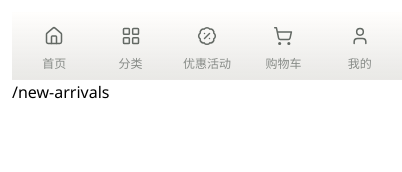
BottomNav › navigates on touch down so scroll momentum cannot swallow the tab switch
Press the mouse on the button with aria-label "优惠活动" at coordinates (207, 46), box [169,12,245,80]
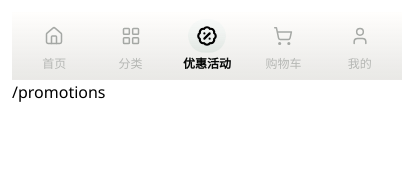
Now the text with test id "location" reads "/promotions", box [12,81,106,103]
